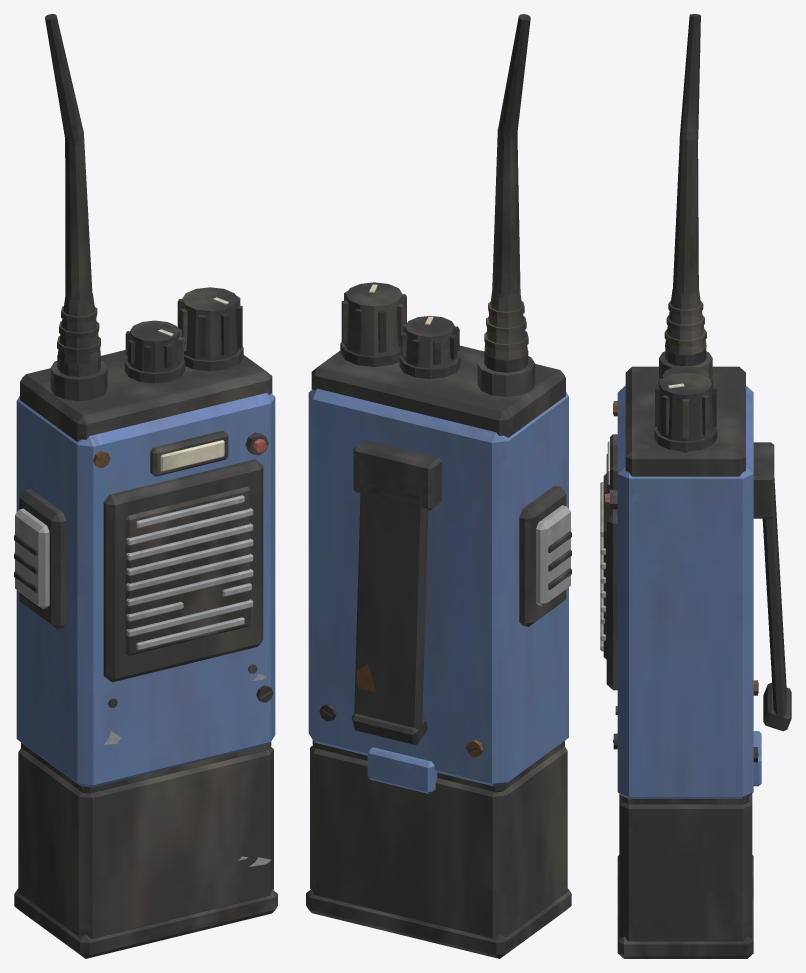
The model's file is O24_police_radio.glb.
3 views of the same model, side by side, from view 1: azimuth 30°, elevation 25°; view 2: azimuth 150°, elevation 25°; view 3: azimuth 270°, elevation 25° (orthographic). The views are drawn at different scales.
Visible parts, largest first — view 1: Main housing; view 2: Main housing; view 3: Main housing.
Boxes of the visible parts, box(x1,y1,x2,y2) form: Main housing: box(14, 14, 277, 958); Main housing: box(306, 14, 571, 958); Main housing: box(600, 14, 791, 958).
Bounding box in the file's own units: 0.0757 × 0.3 × 0.0604.
8 materials, 8 textured.
